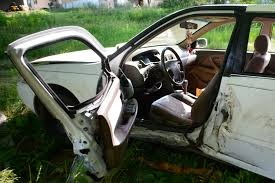Smashed: (56, 7, 256, 162)
